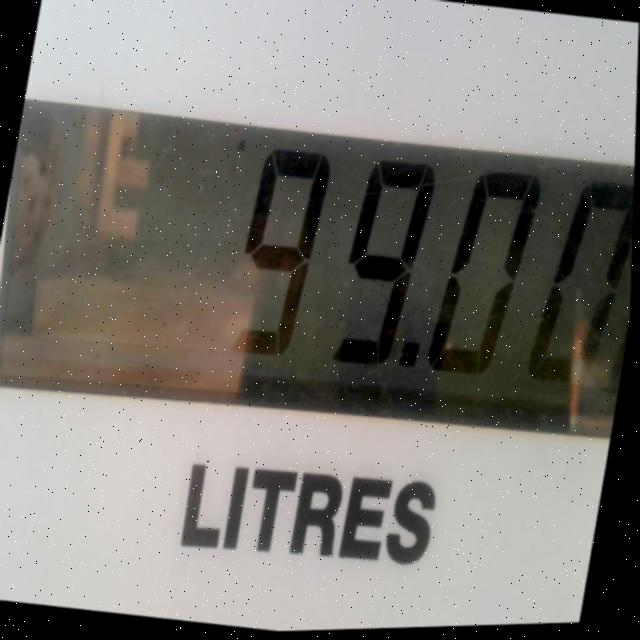.: (393, 333, 430, 390)
0: (417, 168, 549, 407), (536, 177, 636, 392)
9: (226, 129, 345, 374), (322, 155, 442, 380)
